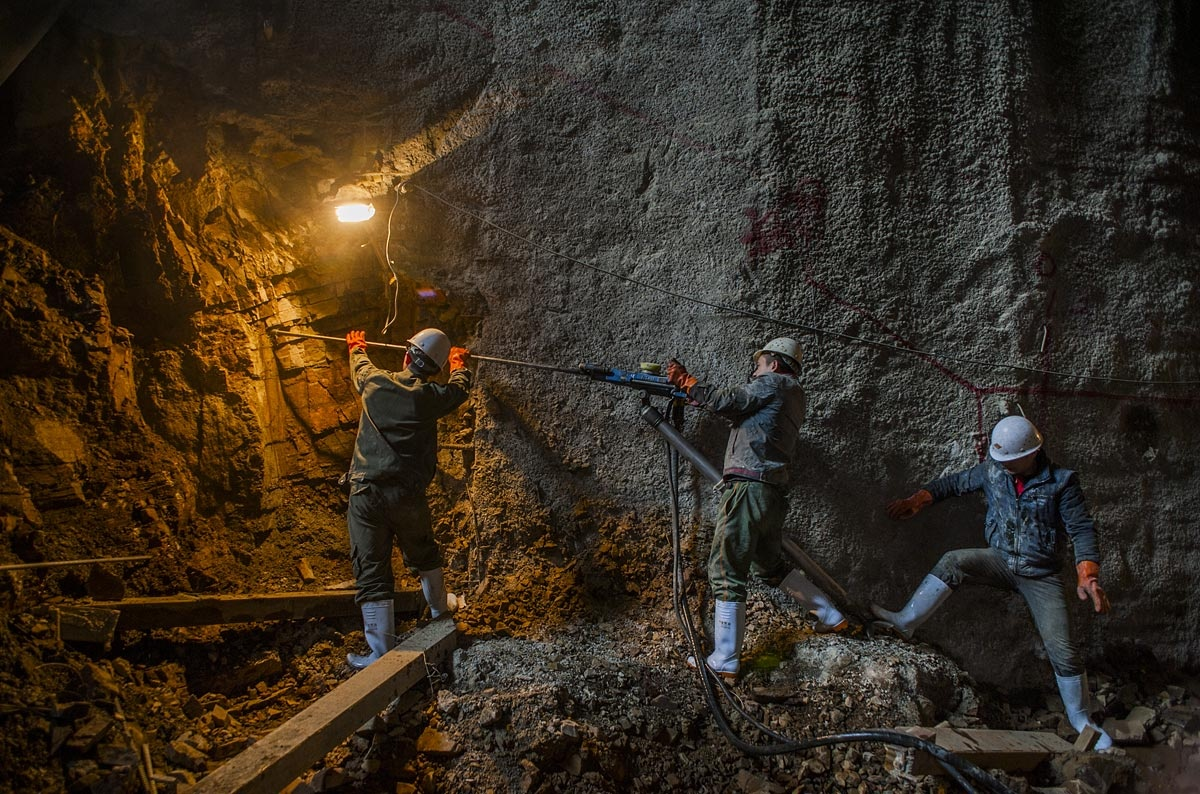white: (988, 415, 1041, 476), (751, 333, 808, 383), (401, 326, 451, 375)
